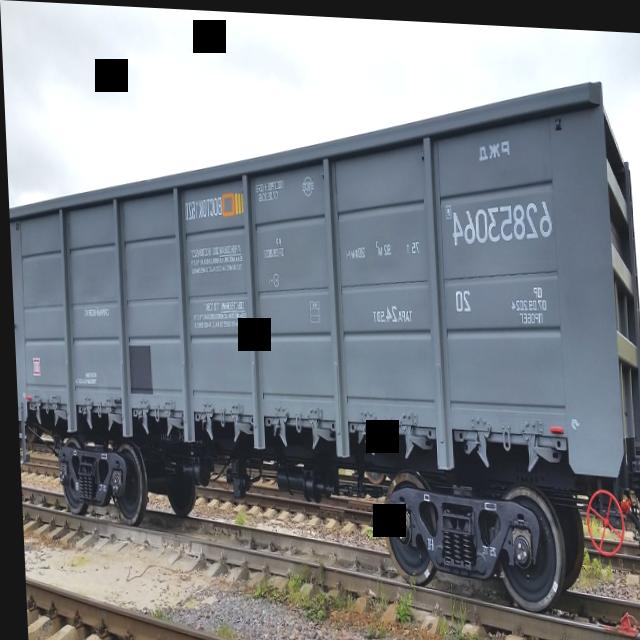gondola: (2, 47, 640, 611)
